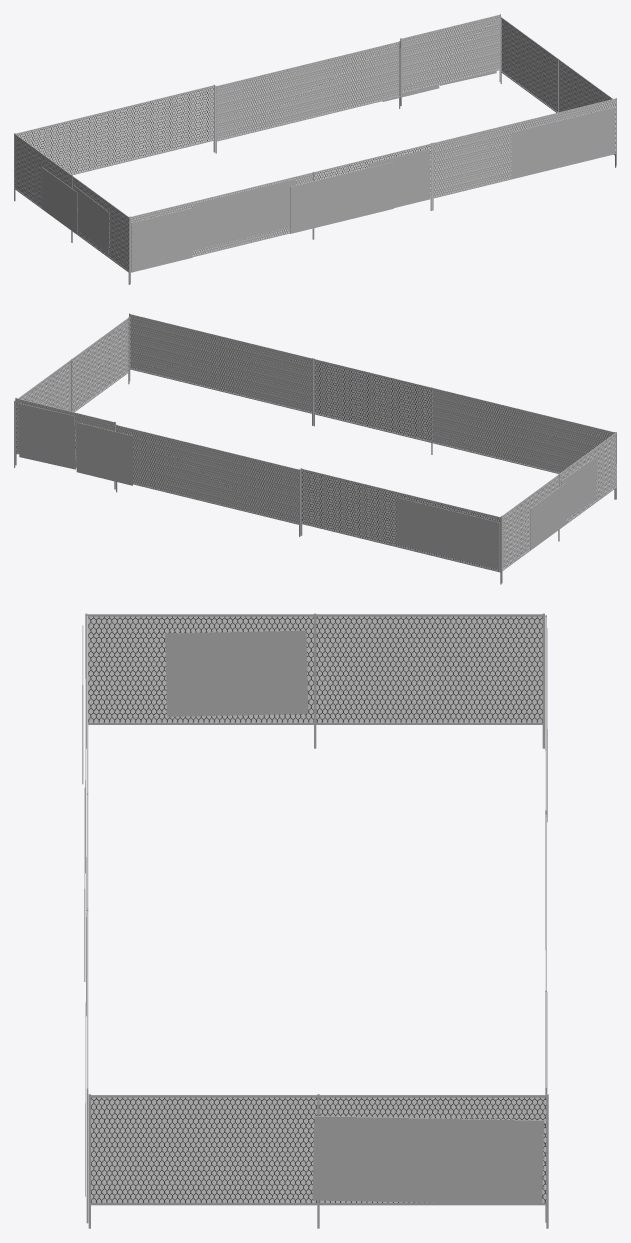
Rendered from mallbil_rooftopfence04b.fbx.
3 renders of one model, top to bottom at view 1: azimuth 30°, elevation 25°; view 2: azimuth 150°, elevation 25°; view 3: azimuth 270°, elevation 25°, orthographic. The views are drawn at different scales.
Parts seen in each view (by area): view 1: mallbil_rooftopfence04b; view 2: mallbil_rooftopfence04b; view 3: mallbil_rooftopfence04b.
Boxes of the visible parts, x1,y1,x2,y2 form: mallbil_rooftopfence04b: [14, 14, 616, 284]; mallbil_rooftopfence04b: [14, 313, 616, 584]; mallbil_rooftopfence04b: [82, 613, 548, 1228].
Bounding box in the file's own units: 1646 × 226 × 680.
